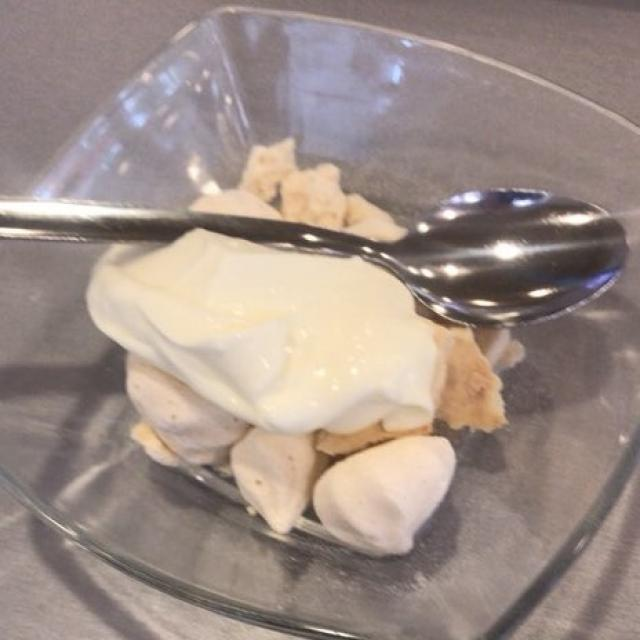meringue: (123, 144, 512, 548)
